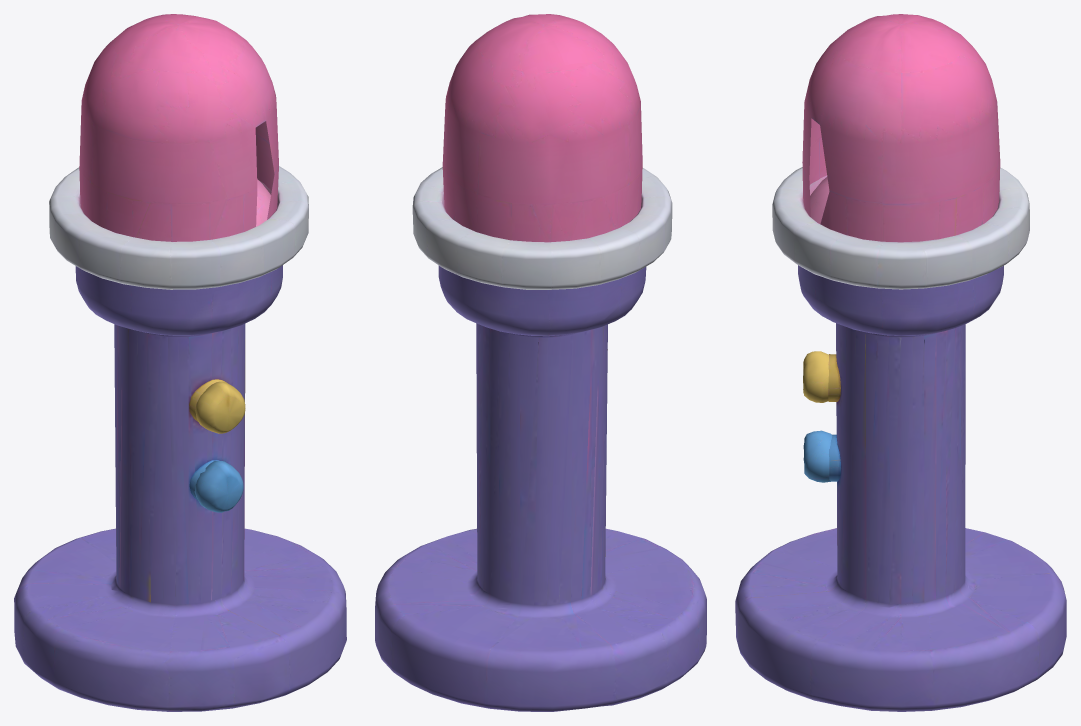
The model's file is karaoke-mic.glb.
3 renders of one model, left to right at view 1: azimuth 30°, elevation 25°; view 2: azimuth 150°, elevation 25°; view 3: azimuth 270°, elevation 25°, orthographic.
Parts seen in each view (by area): view 1: geometry_0; view 2: geometry_0; view 3: geometry_0.
Part boxes in pixels (<box>): geometry_0: <box>14,14,346,711</box>; geometry_0: <box>375,14,706,711</box>; geometry_0: <box>735,14,1066,711</box>.
Size of the model in its own units: 0.4887 by 1 by 0.4858.
Materials: 1 (1 with a texture image).
